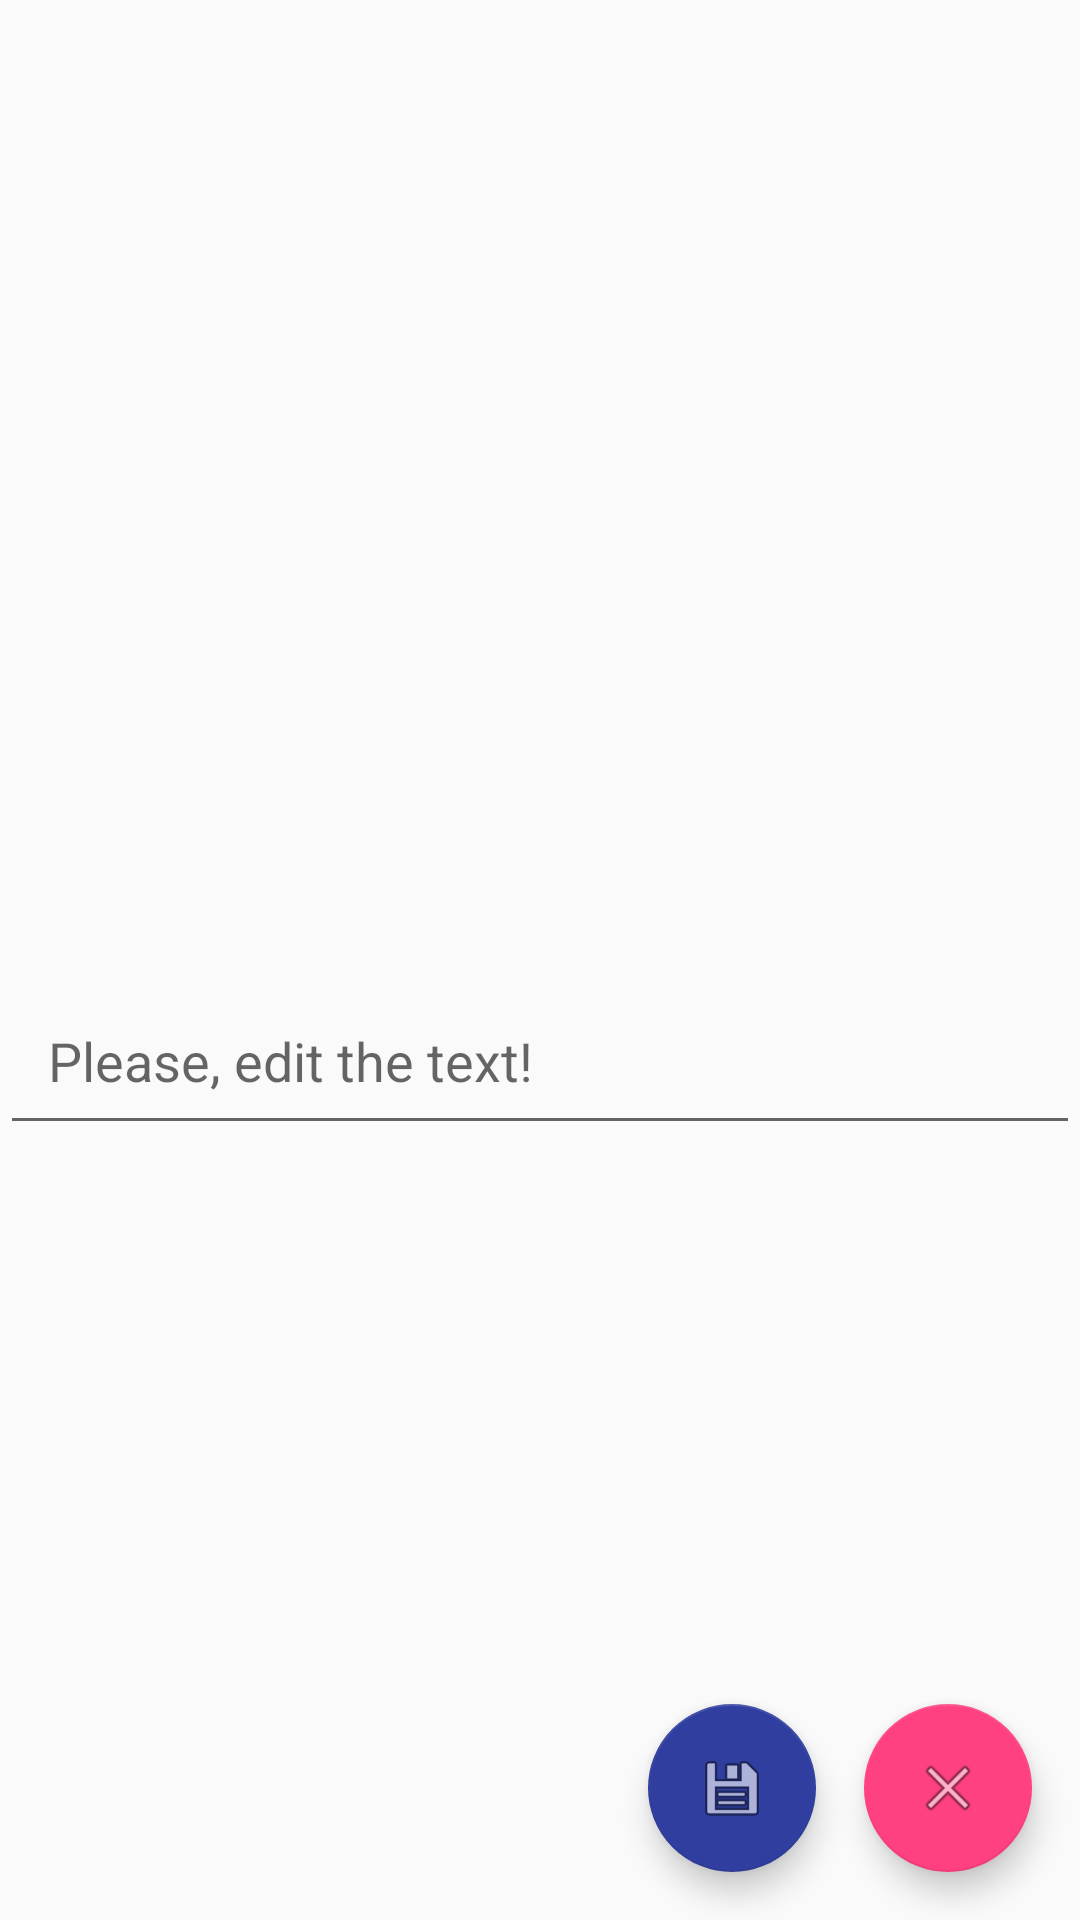

Named icons in this screenshot (1080x1920) and their bounding boxes, (x1, y1, x2, y2):
Cancel: (864, 1704, 1032, 1872)
save: (648, 1704, 816, 1872)
